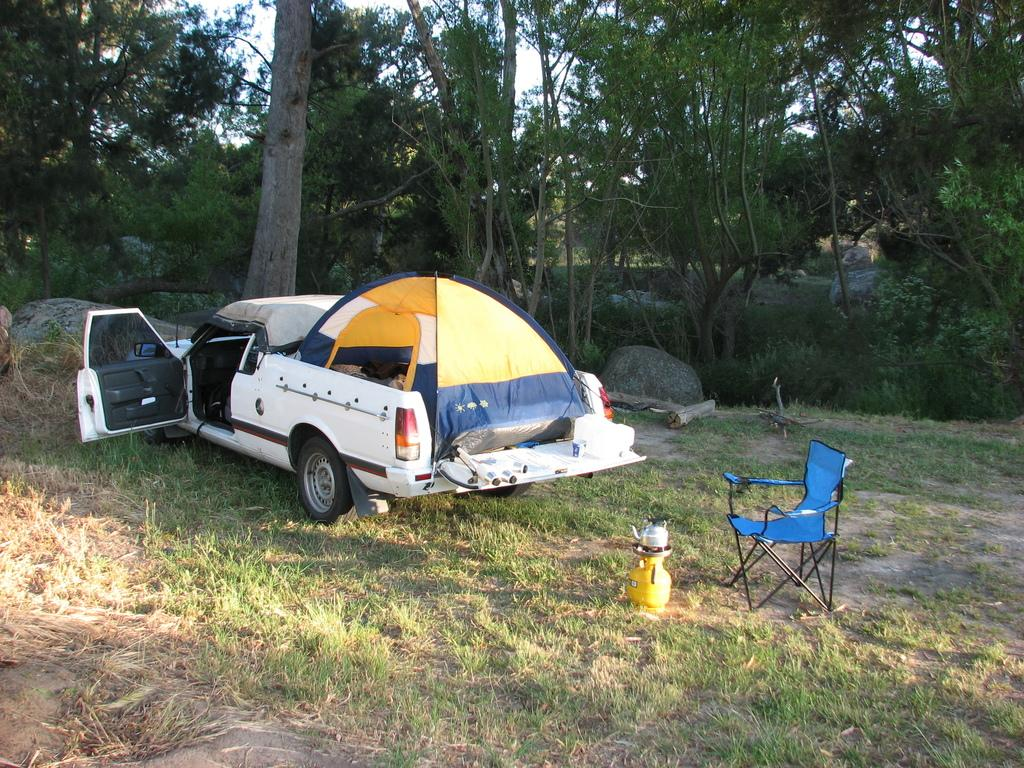Chair: (712, 441, 860, 623)
